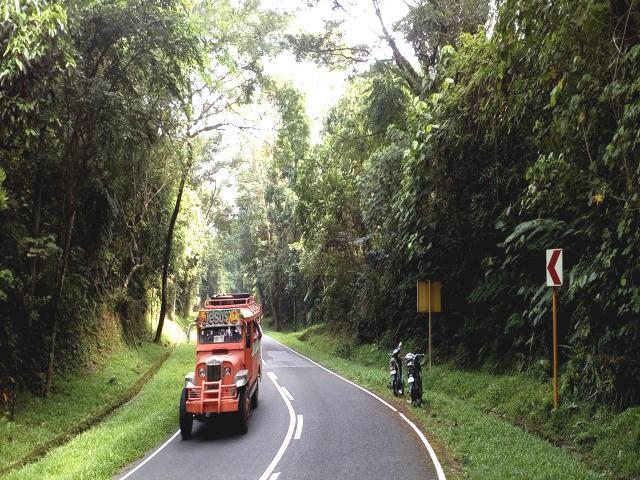jeepney: (174, 288, 272, 442)
